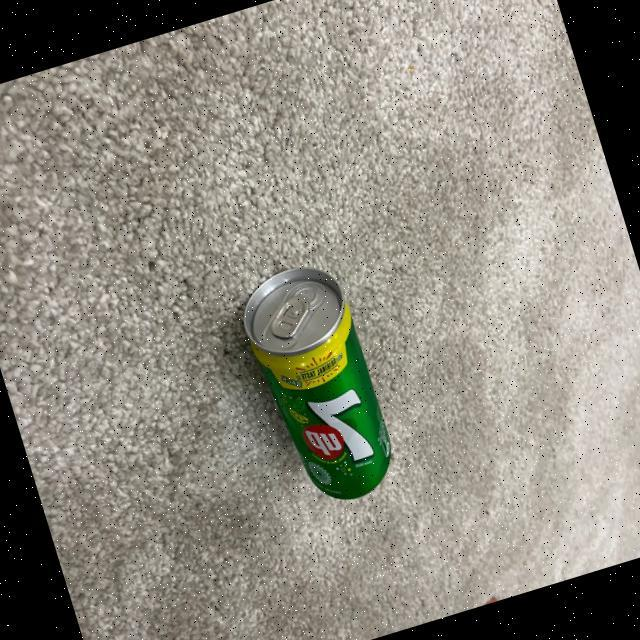debris: (230, 251, 408, 518)
